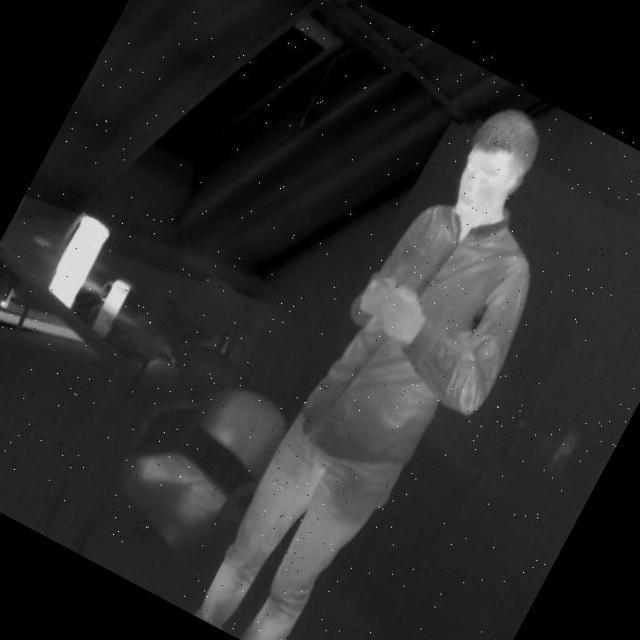person: (175, 66, 623, 640)
